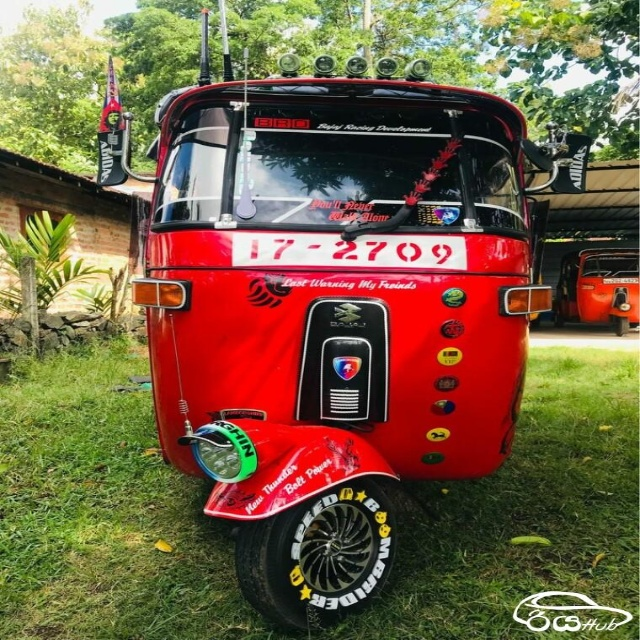Motorcycle: (94, 71, 587, 628), (556, 248, 640, 336)
